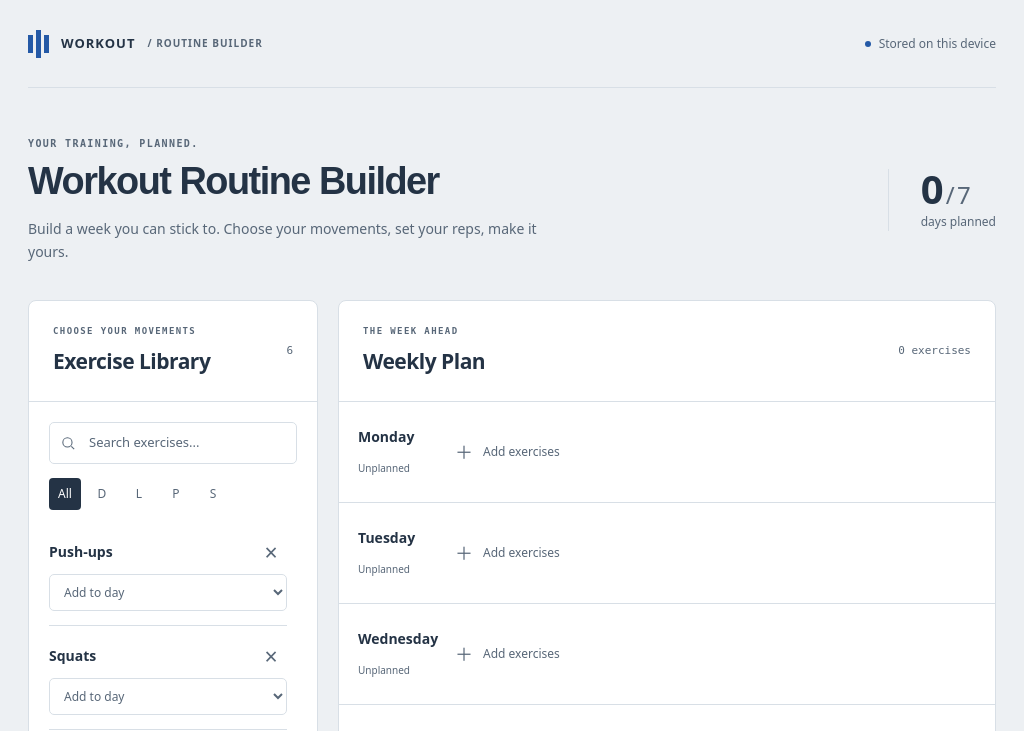
it: App Integration Tests › Add exercise to a day
This screenshot has width=1024, height=731.
Select "Monday" in the dropdown named "Add Squats to day" at (168, 696), box [49, 678, 287, 715]
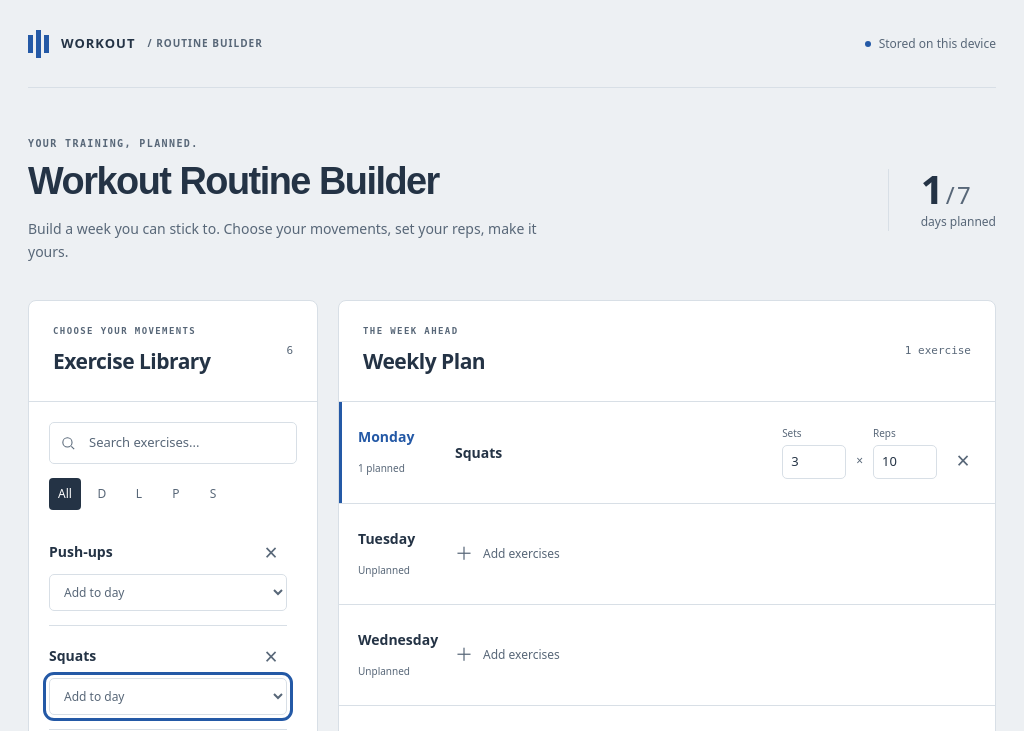
expect the text "1 exercise" is shown: met, box [905, 343, 971, 360]
